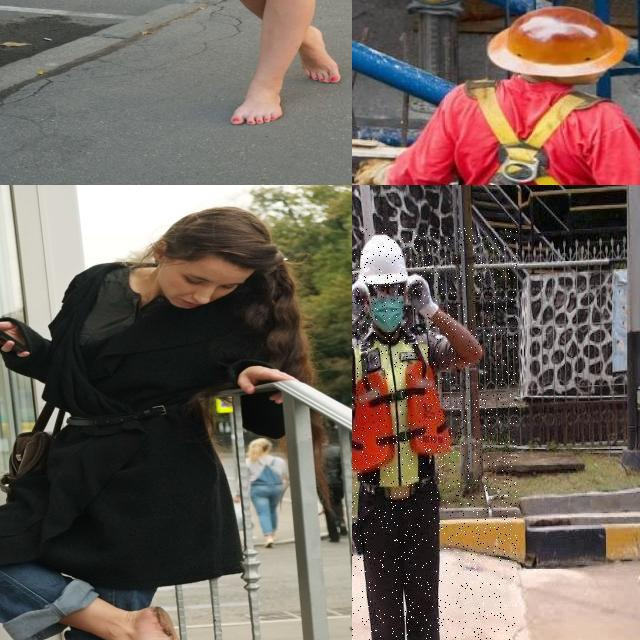Barefoots: (129, 606, 205, 640), (298, 26, 341, 83), (230, 86, 283, 124)
Harness: (466, 82, 600, 185)
head_helmet: (356, 237, 410, 290)
person: (352, 228, 517, 640)
vest: (352, 332, 451, 494)
